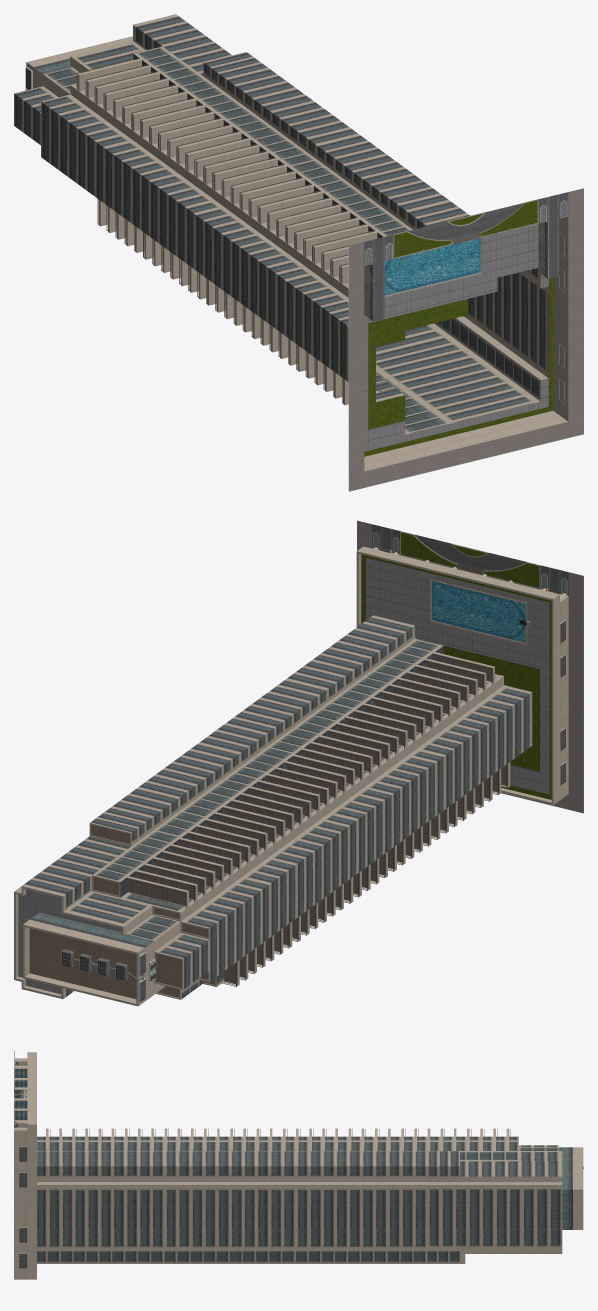
File: high_rise_apartment2.glb
3 renders of one model, top to bottom at view 1: azimuth 30°, elevation 25°; view 2: azimuth 150°, elevation 25°; view 3: azimuth 270°, elevation 25°, orthographic. The views are drawn at different scales.
Visible parts, largest first — view 1: hirise2; view 2: hirise2; view 3: hirise2.
Part boxes in pixels (x1,y1,x2,y2): hirise2: (14,14,583,491); hirise2: (14,520,583,1006); hirise2: (14,1051,583,1279).
Bounding box in the file's own units: 16.42 × 16.42 × 47.48.
1 material, 1 textured.
